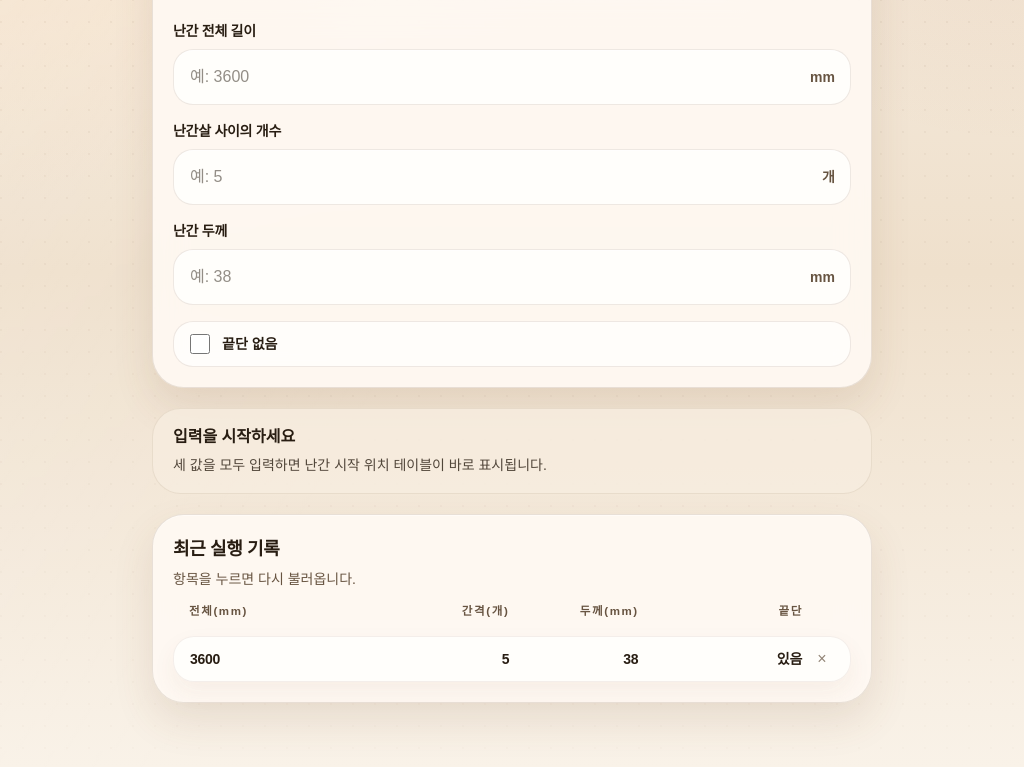
it: FrameCalcApp › deletes a history entry from the visible x button
The image size is (1024, 767).
(page scrolled)
Click the button named "전체 3600mm · 간격 5개 · 두께 38mm · 끝단 있음 삭제 버튼". click: click(822, 659)
box: x1=806 y1=643 x2=838 y2=675
(page scrolled)
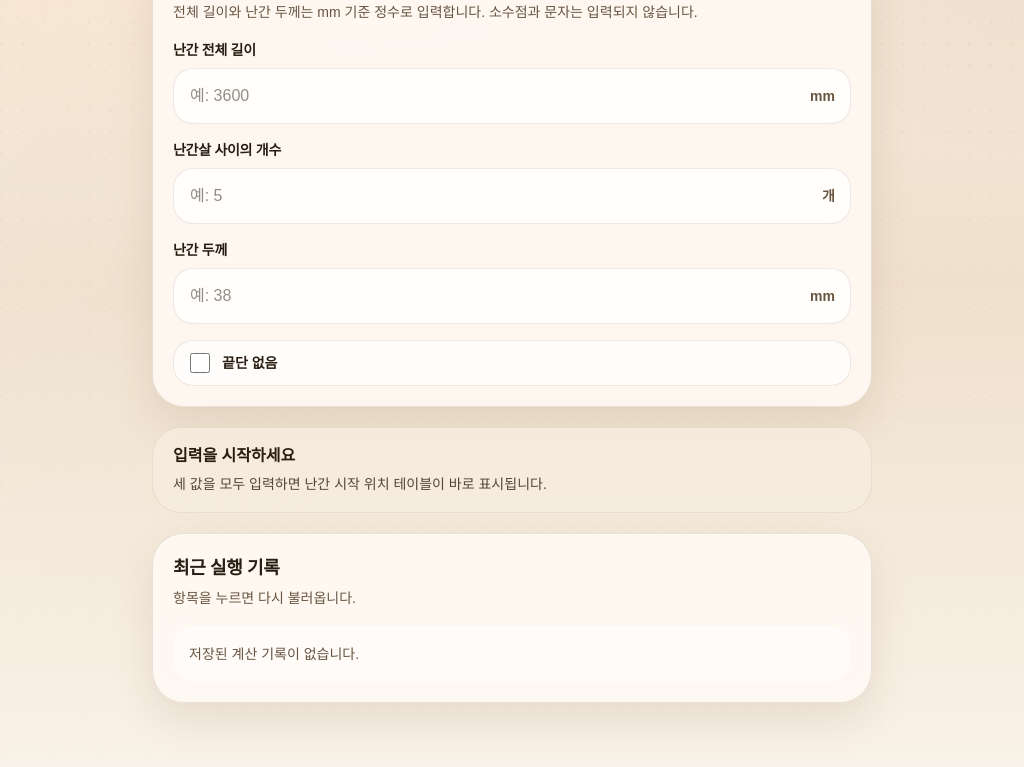
Expected: the text "저장된 계산 기록이 없습니다." is shown, x1=173 y1=626 x2=851 y2=682
